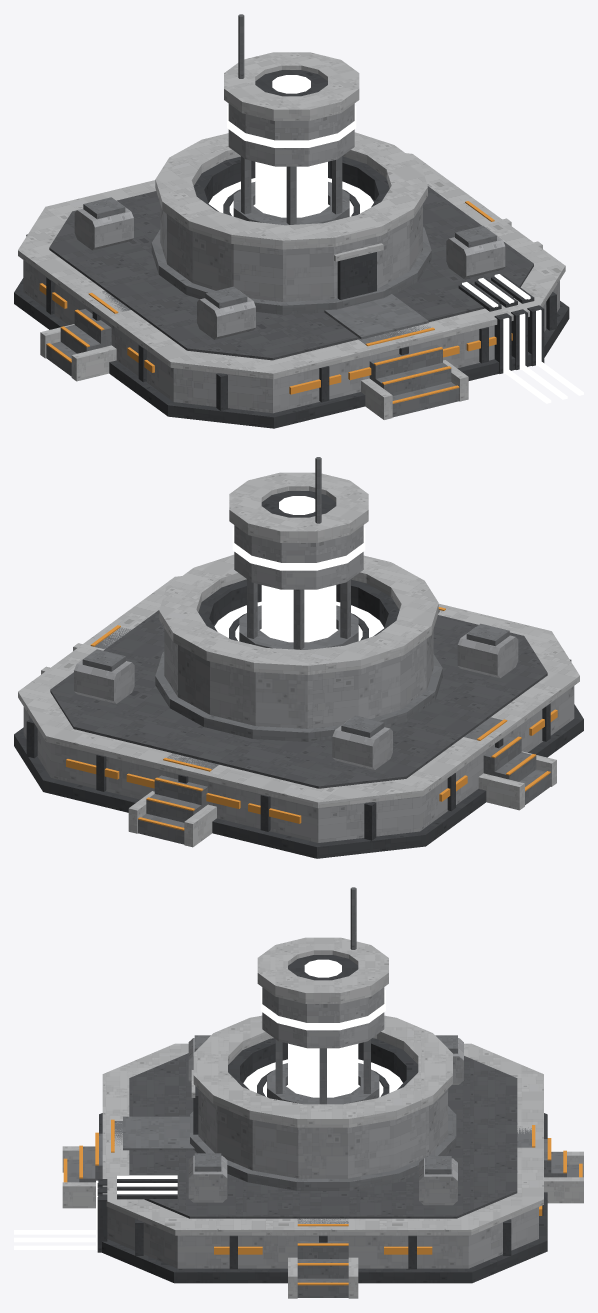
File: power_lod1.glb
The picture shows the model from 3 angles, top to bottom: view 1: azimuth 30°, elevation 25°; view 2: azimuth 150°, elevation 25°; view 3: azimuth 270°, elevation 25°; orthographic projection. The views are drawn at different scales.
Visible parts, largest first — view 1: power_base_body.001, power_core_glow.001, power_base_trim.001, power_conduit_glow.001, power_base_glow.001; view 2: power_base_body.001, power_core_glow.001, power_base_trim.001, power_base_glow.001; view 3: power_base_body.001, power_core_glow.001, power_base_trim.001, power_conduit_glow.001, power_base_glow.001.
Boxes of the visible parts, box(x1,y1,x2,y2) form: power_base_body.001: box(14, 14, 569, 428); power_core_glow.001: box(208, 75, 373, 217); power_base_trim.001: box(39, 201, 512, 403); power_conduit_glow.001: box(462, 274, 583, 403); power_base_glow.001: box(227, 105, 356, 147); power_base_body.001: box(14, 457, 583, 858); power_core_glow.001: box(214, 496, 383, 642); power_base_trim.001: box(66, 607, 557, 830); power_base_glow.001: box(232, 527, 365, 570); power_base_body.001: box(62, 887, 583, 1298); power_core_glow.001: box(243, 959, 402, 1097); power_base_trim.001: box(63, 1119, 582, 1285); power_conduit_glow.001: box(14, 1175, 177, 1250); power_base_glow.001: box(260, 989, 385, 1030).
Bounding box in the file's own units: 4.3 × 2.58 × 4.7.
3 materials, 1 textured.
